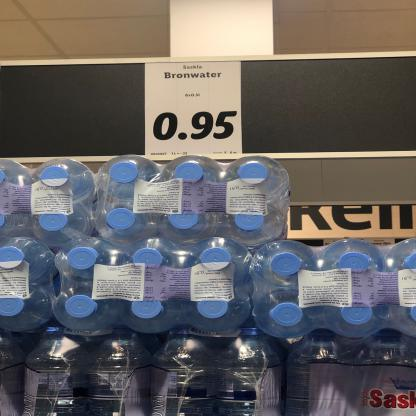prtg: (146, 62, 243, 156)
